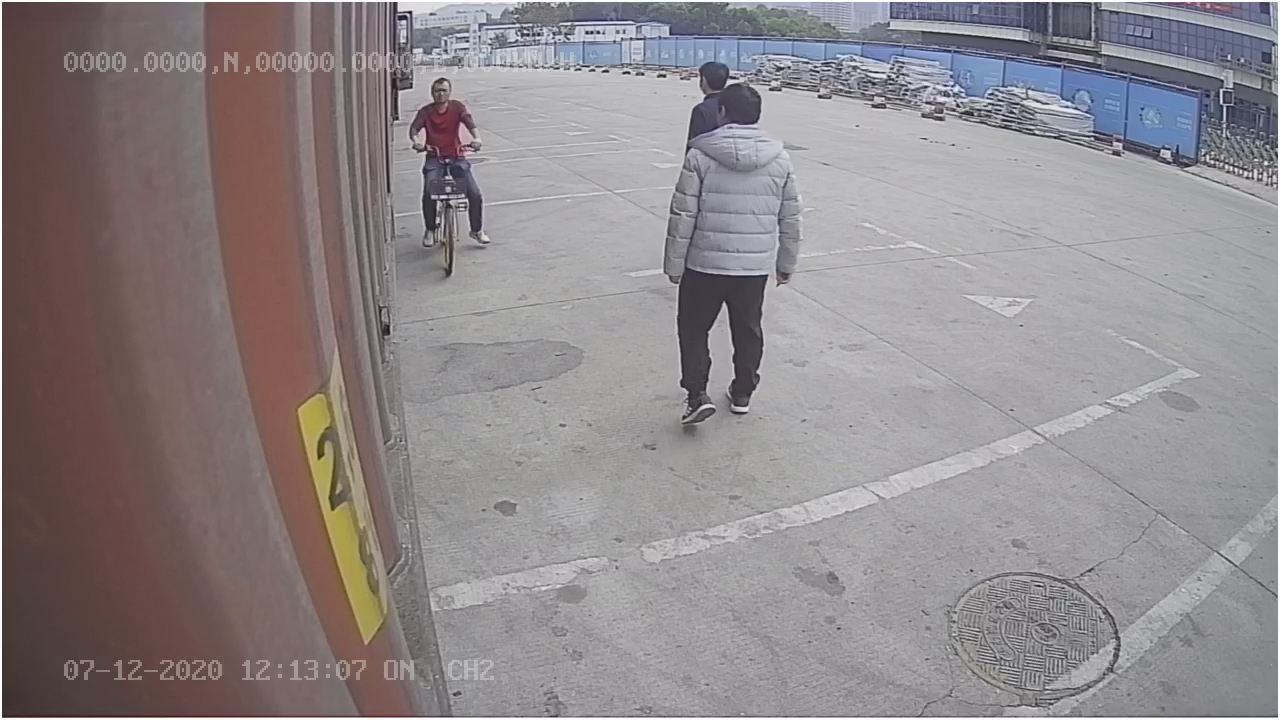person: (661, 82, 799, 429)
